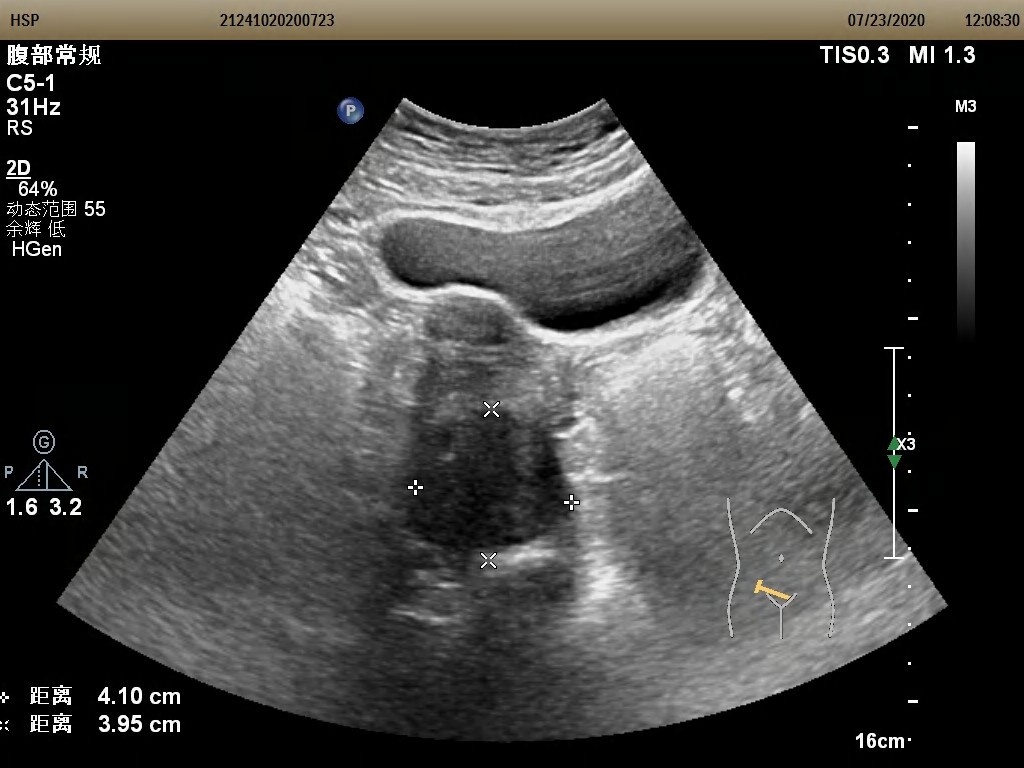肌瘤: (409, 415, 565, 541)
